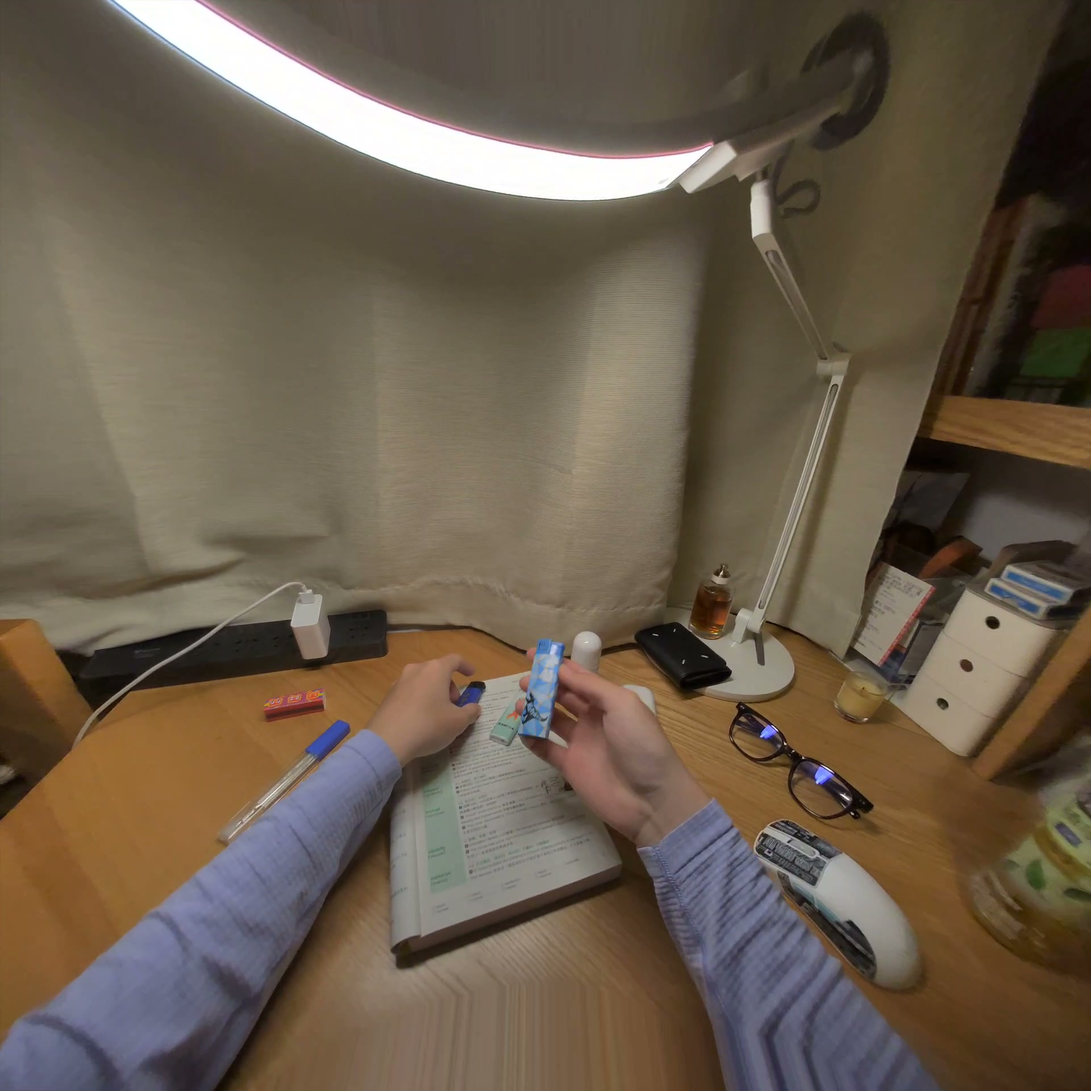lighter: (519, 640, 564, 738)
